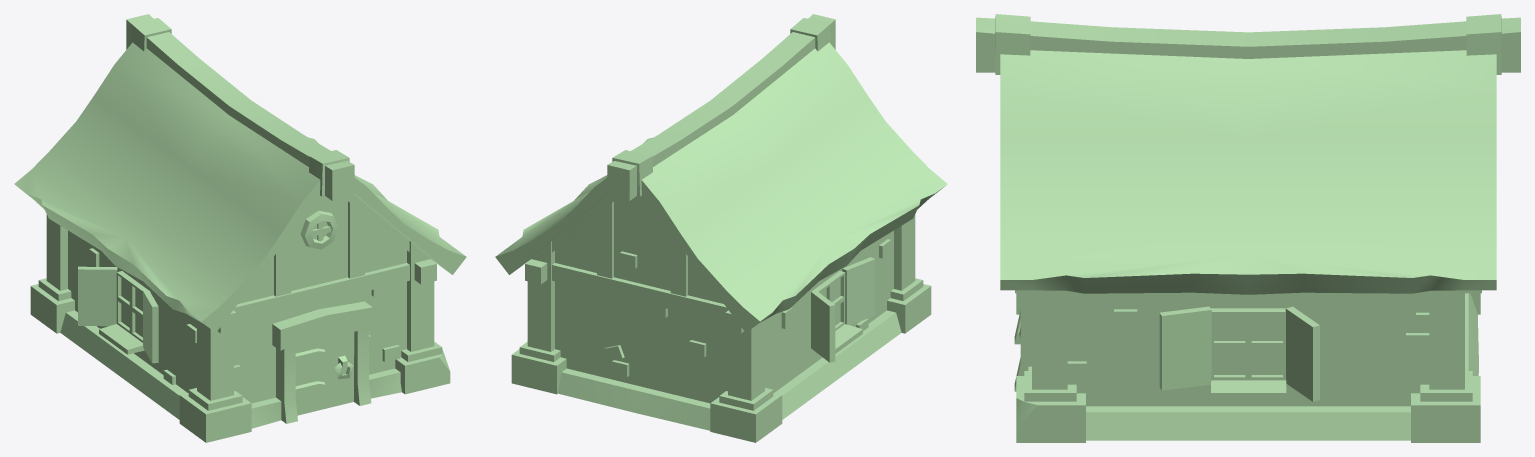
File: house 1.glb
3 views of the same model, side by side, from view 1: azimuth 30°, elevation 25°; view 2: azimuth 150°, elevation 25°; view 3: azimuth 270°, elevation 25° (orthographic). The views are drawn at different scales.
Parts seen in each view (by area): view 1: Mesh_1; view 2: Mesh_1; view 3: Mesh_1.
Part boxes in pixels (x1,y1,x2,y2): Mesh_1: (14, 14, 466, 442); Mesh_1: (495, 14, 947, 442); Mesh_1: (976, 14, 1520, 442).
Size of the model in its own units: 7.97 by 7.12 by 10.3.
